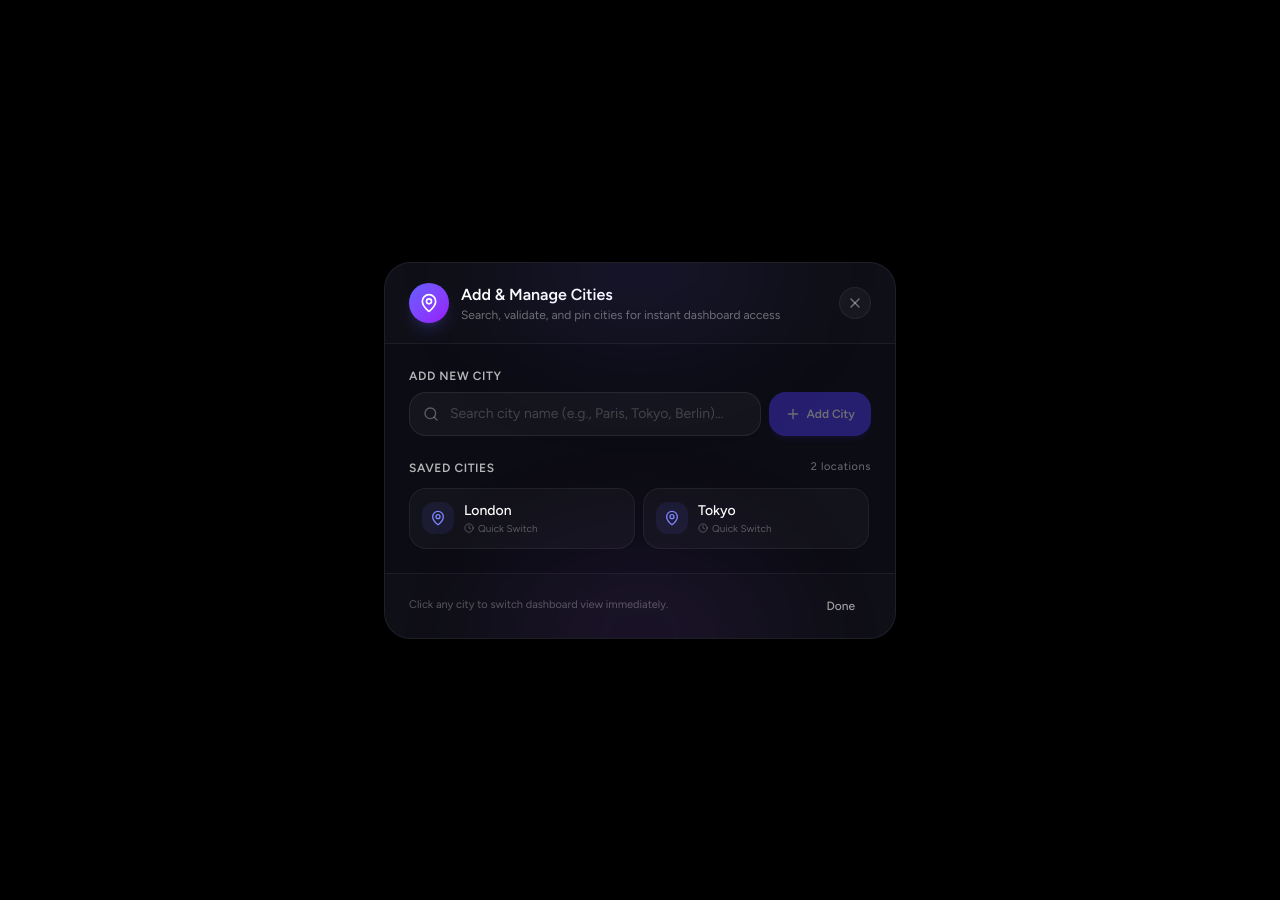
it: AddCityModal › shows duplicate error when attempting to add an already saved city
Type "London" into the field with placeholder "Search city name (e.g., Paris, Tokyo, Berlin)..." at (585, 414), box [409,392,761,436]
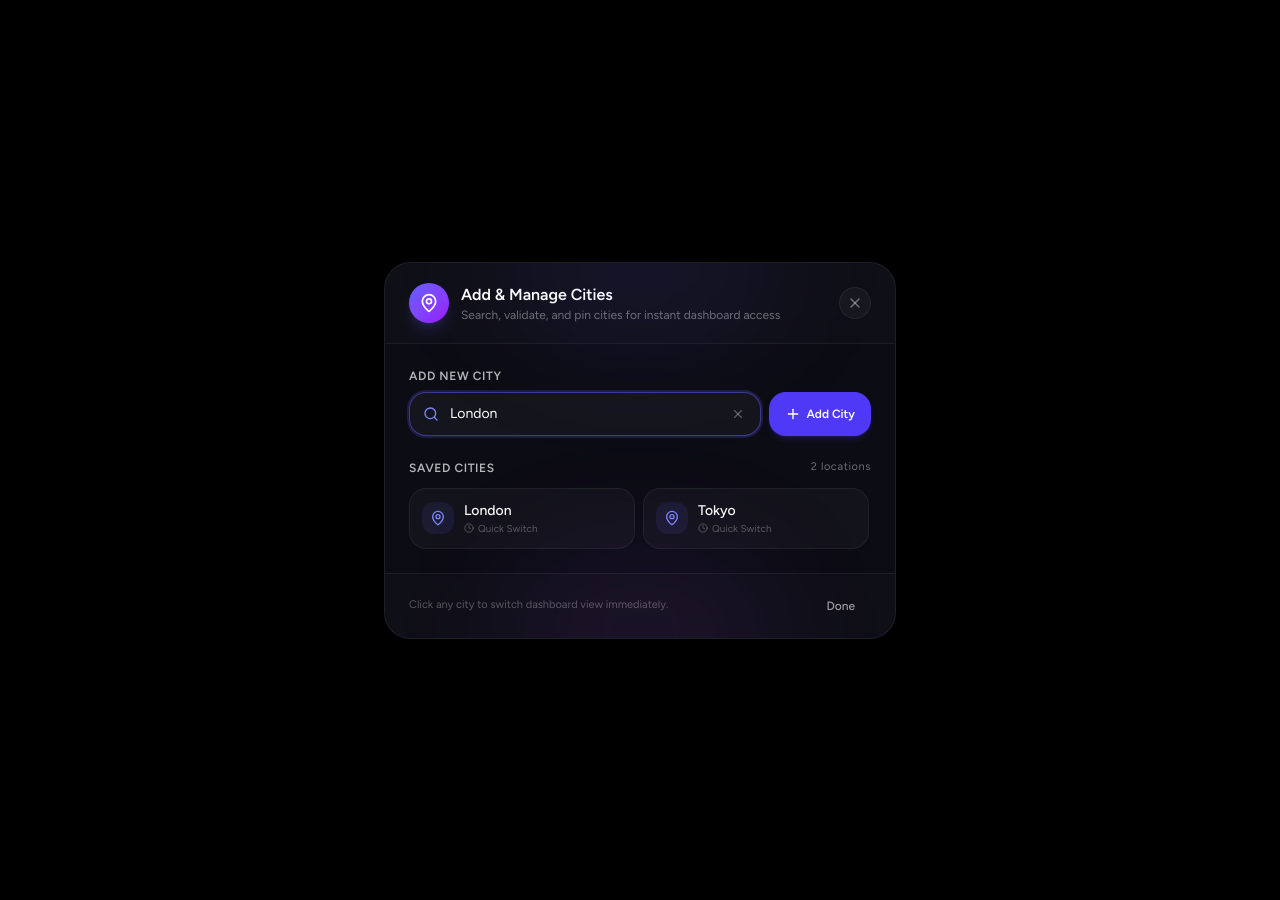
Press Enter
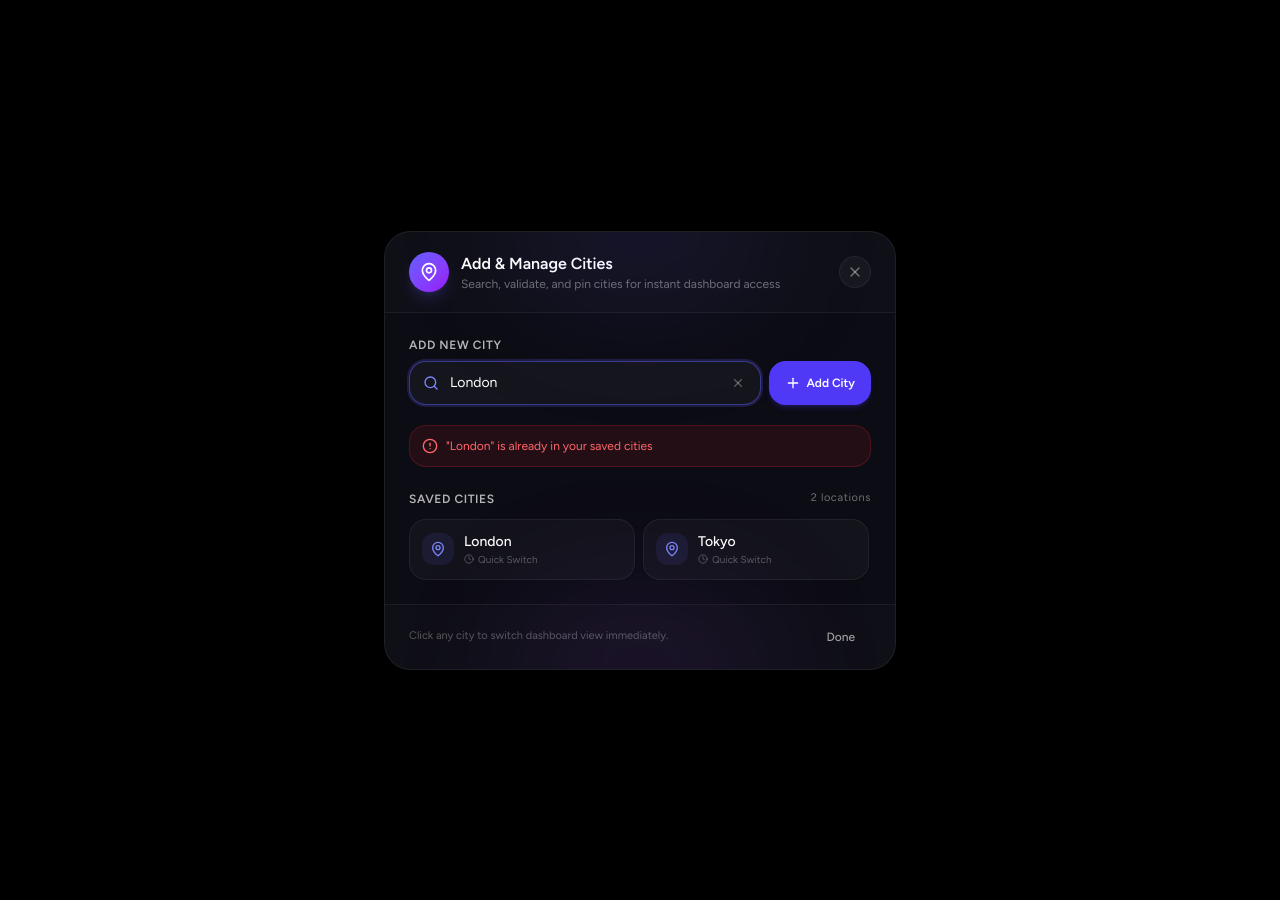
Expected: the text "\"London\" is already in your saved cities" is shown, [446,438,653,454]
